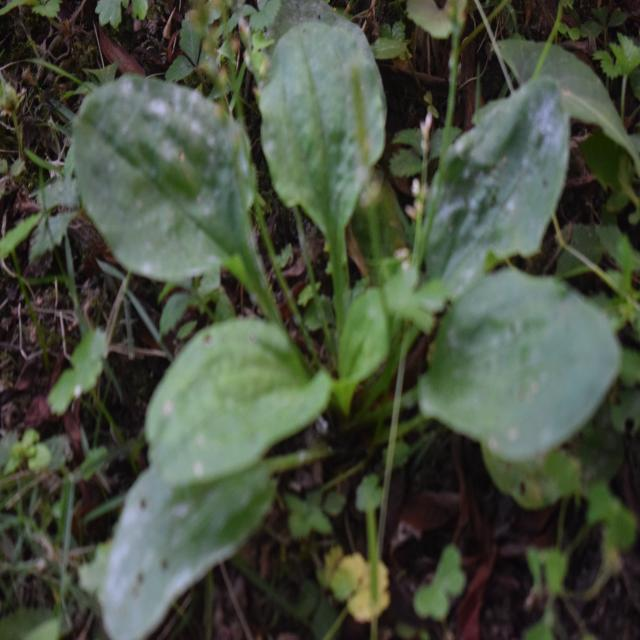plantain: (76, 56, 610, 517)
